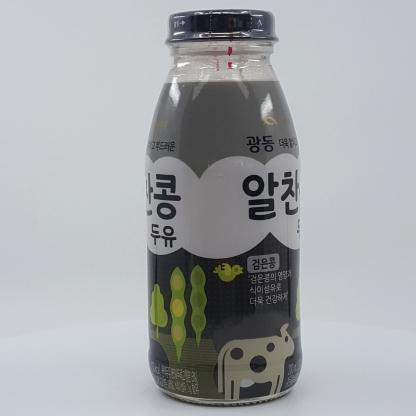--------200ML: (144, 9, 303, 407)
